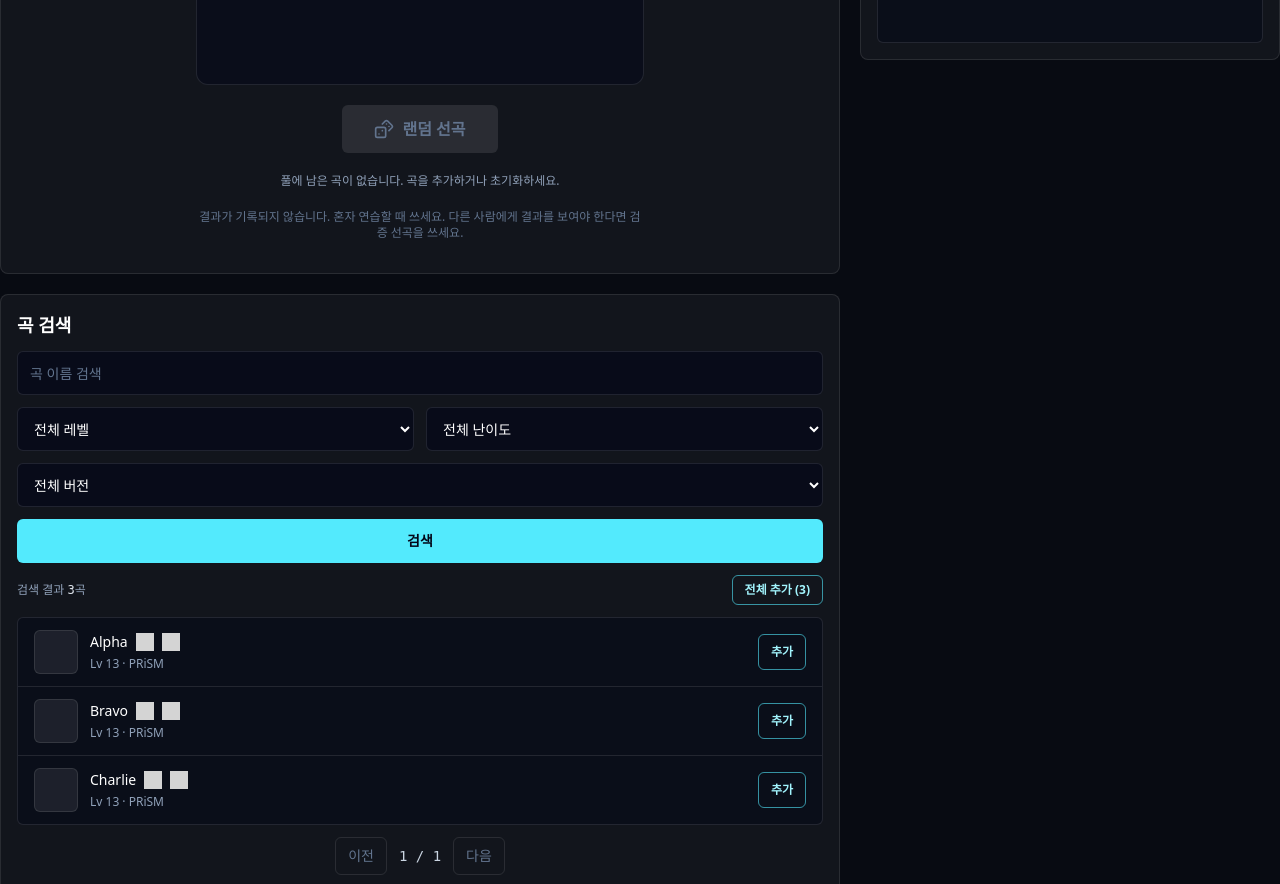
Test: RandomPicker › commits the pool, waits for the beacon, then lands on the revealed winner
(page scrolled)
Click the button with aria-label "Alpha DX MASTER 풀에 추가": (782, 652) [758,634,806,670]
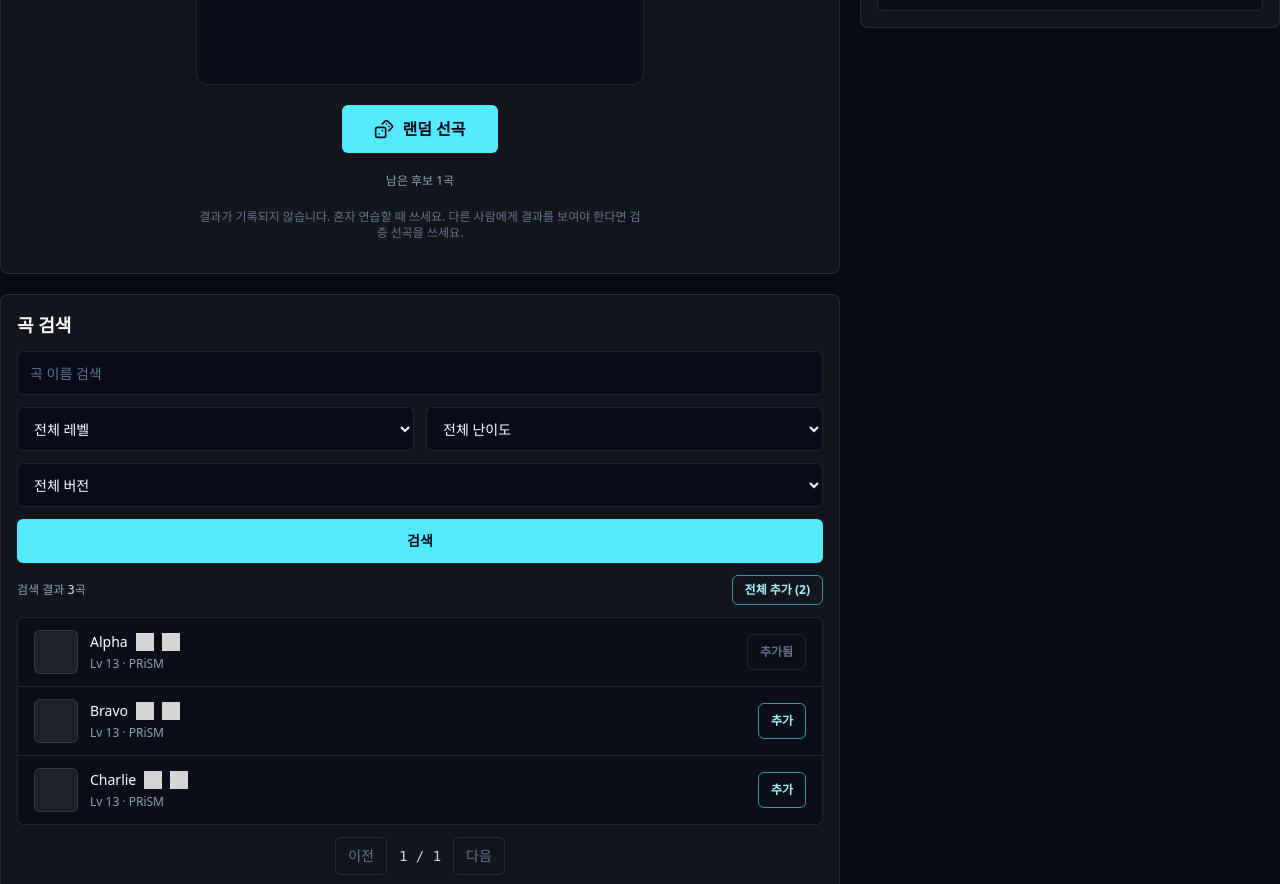
Click the button with aria-label "Bravo DX MASTER 풀에 추가": (782, 721) [758,703,806,739]
(page scrolled)
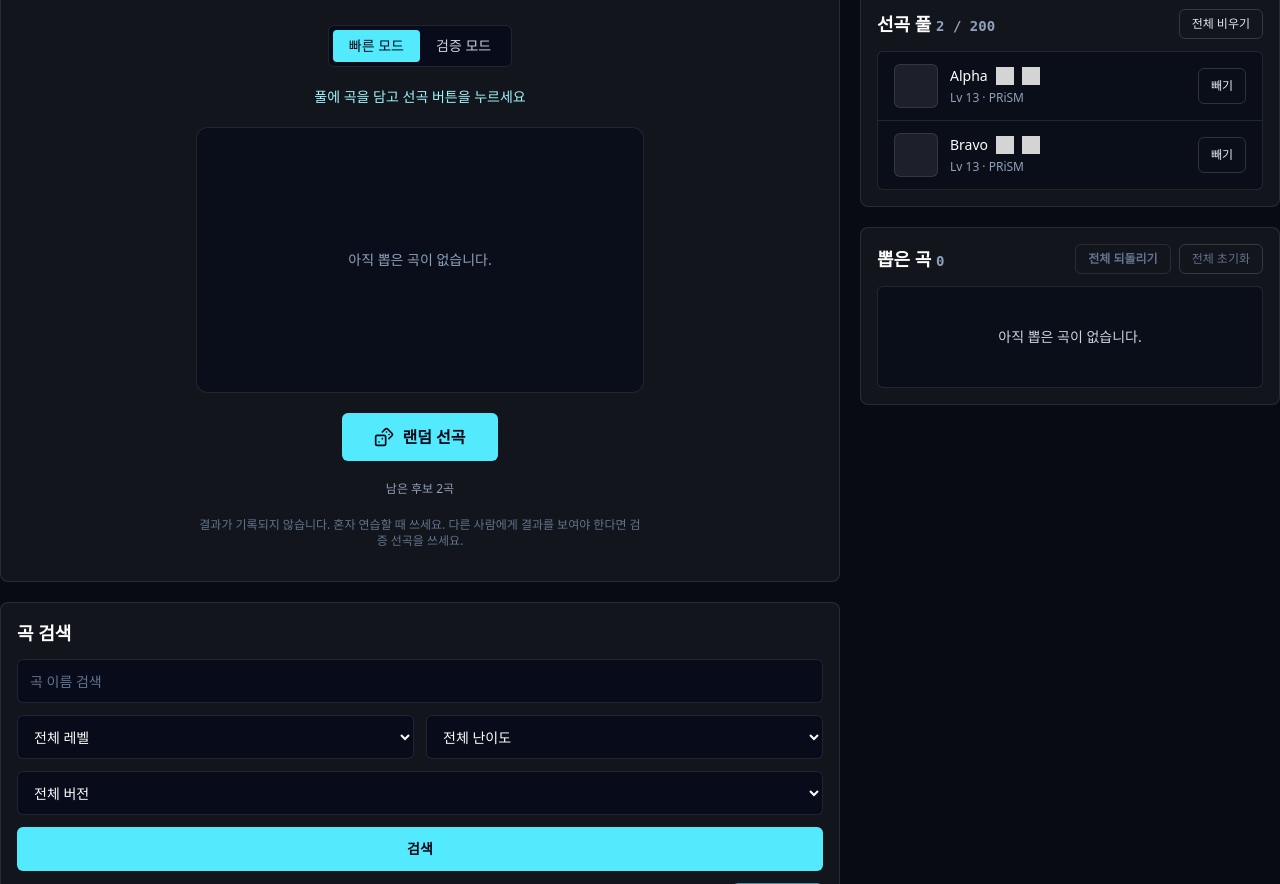
Click the button "검증 모드": (464, 46) [420,30,507,62]
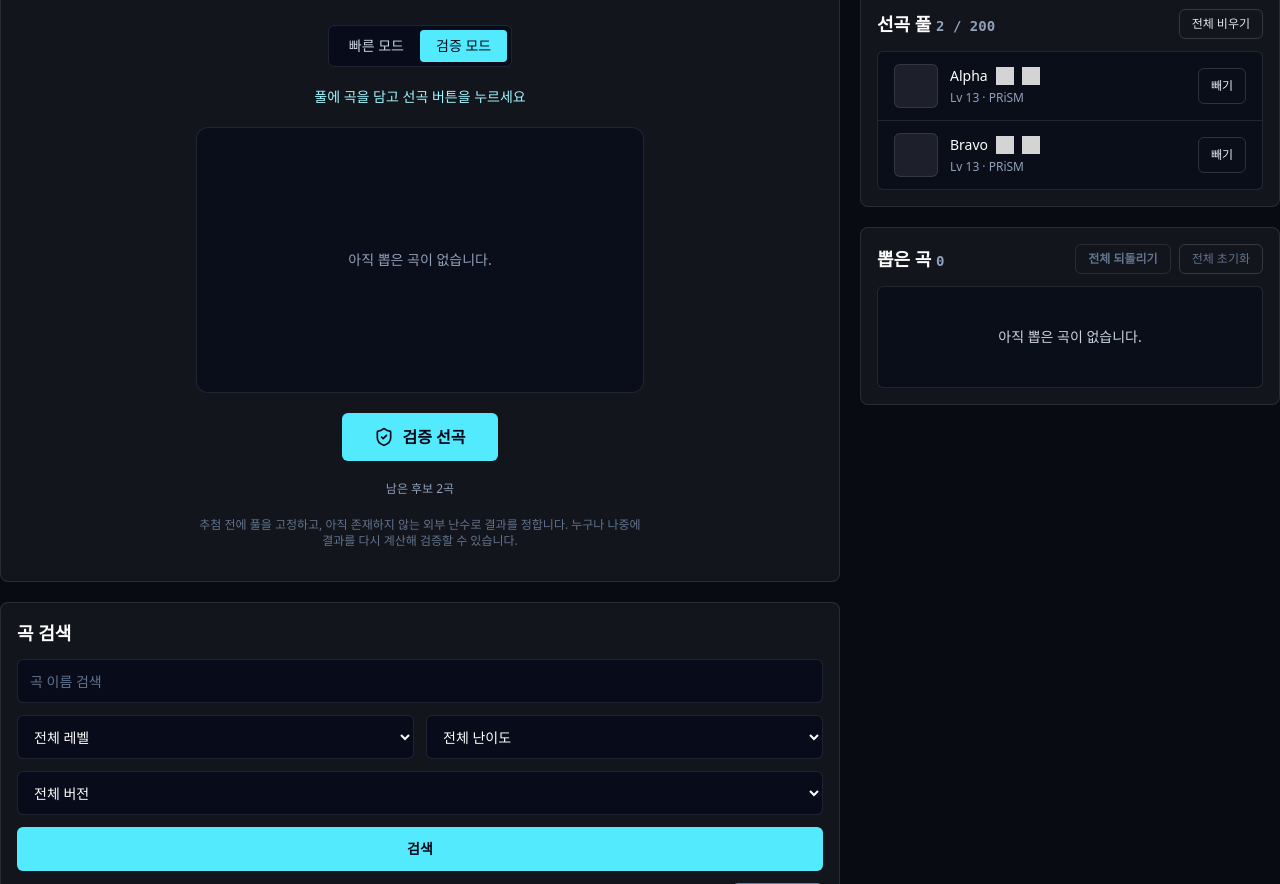
Click the button "검증 선곡": (420, 437) [342,413,498,461]
Wait 14050 ms
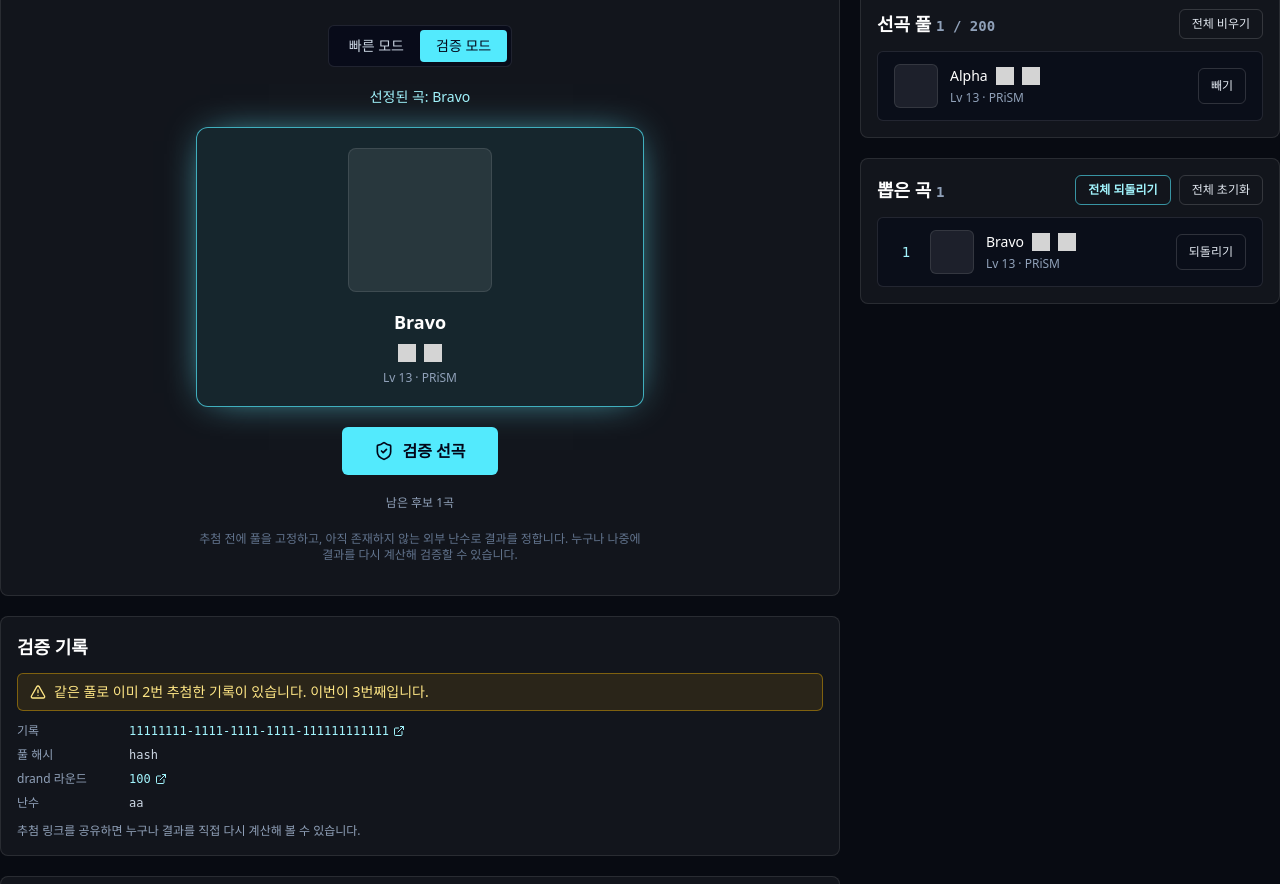
Result: the text "같은 풀로 이미 2번 추첨한 기록이 있습니다. 이번이 3번째입니다." is shown at [54,682,429,702]
